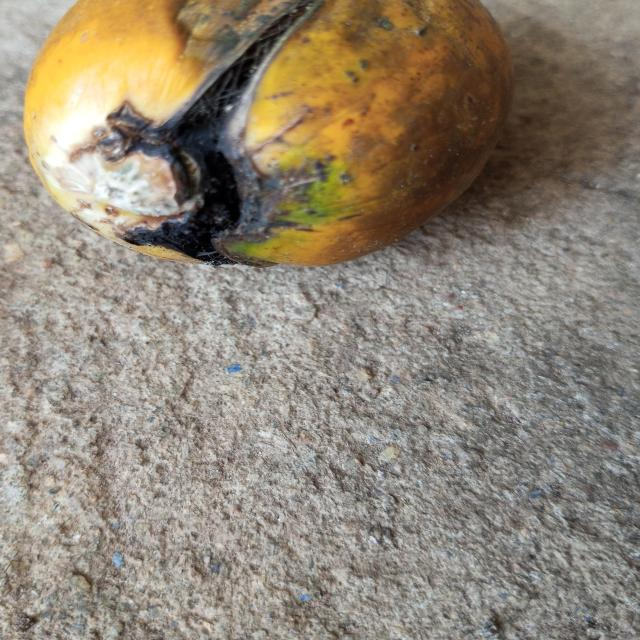damaged: (22, 0, 514, 270)
